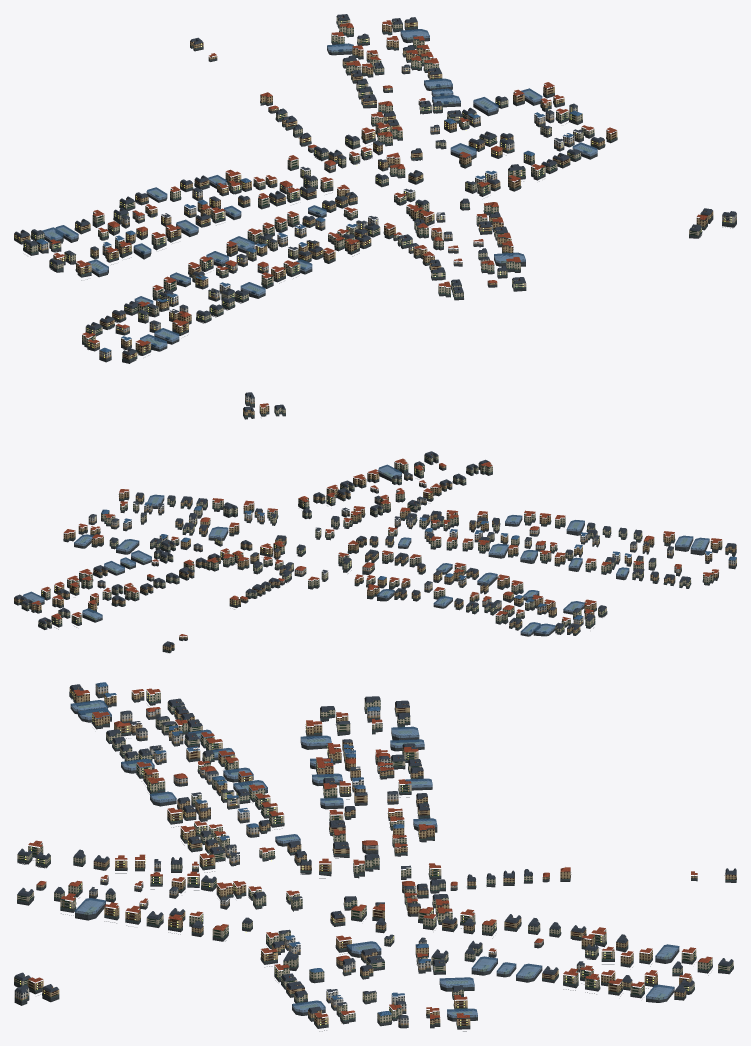
File: osm_buildings_T_E02_N01_Q1.glb
3 views of the same model, one above another, from view 1: azimuth 30°, elevation 25°; view 2: azimuth 150°, elevation 25°; view 3: azimuth 270°, elevation 25° (orthographic). The views are drawn at different scales.
Visible parts, largest first — view 1: OSM_T_E02_N01_Q1_foundation, OSM_T_E02_N01_Q1_wall_cream_stucco, OSM_T_E02_N01_Q1_wall_french_ochre, OSM_T_E02_N01_Q1_roof_terracotta, OSM_T_E02_N01_Q1_roof_mansard_slate, OSM_T_E02_N01_Q1_greenhouse_blend, OSM_T_E02_N01_Q1_roof_mansard_deck, OSM_T_E02_N01_Q1_wall_warm_white, OSM_T_E02_N01_Q1_roof_mint_metal, OSM_T_E02_N01_Q1_balcony_railing, OSM_T_E02_N01_Q1_wall_pastel_sand, OSM_T_E02_N01_Q1_window_emissive_warm (+2 smaller); view 2: OSM_T_E02_N01_Q1_foundation, OSM_T_E02_N01_Q1_wall_cream_stucco, OSM_T_E02_N01_Q1_wall_french_ochre, OSM_T_E02_N01_Q1_roof_terracotta, OSM_T_E02_N01_Q1_greenhouse_blend, OSM_T_E02_N01_Q1_roof_mansard_slate, OSM_T_E02_N01_Q1_roof_mansard_deck, OSM_T_E02_N01_Q1_roof_mint_metal, OSM_T_E02_N01_Q1_wall_warm_white, OSM_T_E02_N01_Q1_trim_cornice, OSM_T_E02_N01_Q1_wall_pastel_sand, OSM_T_E02_N01_Q1_roof_alpine_blue (+2 smaller); view 3: OSM_T_E02_N01_Q1_foundation, OSM_T_E02_N01_Q1_wall_cream_stucco, OSM_T_E02_N01_Q1_wall_french_ochre, OSM_T_E02_N01_Q1_roof_terracotta, OSM_T_E02_N01_Q1_roof_mansard_slate, OSM_T_E02_N01_Q1_greenhouse_blend, OSM_T_E02_N01_Q1_roof_mansard_deck, OSM_T_E02_N01_Q1_wall_warm_white, OSM_T_E02_N01_Q1_trim_cornice, OSM_T_E02_N01_Q1_roof_mint_metal, OSM_T_E02_N01_Q1_roof_alpine_blue, OSM_T_E02_N01_Q1_wall_pastel_sand (+2 smaller).
Boxes of the visible parts, left/top/right/bottom form: OSM_T_E02_N01_Q1_foundation: left=14, top=21, right=736, bottom=363; OSM_T_E02_N01_Q1_wall_cream_stucco: left=23, top=17, right=701, bottom=344; OSM_T_E02_N01_Q1_wall_french_ochre: left=14, top=22, right=713, bottom=359; OSM_T_E02_N01_Q1_roof_terracotta: left=50, top=16, right=707, bottom=346; OSM_T_E02_N01_Q1_roof_mansard_slate: left=14, top=14, right=736, bottom=355; OSM_T_E02_N01_Q1_greenhouse_blend: left=42, top=29, right=597, bottom=349; OSM_T_E02_N01_Q1_roof_mansard_deck: left=16, top=14, right=734, bottom=352; OSM_T_E02_N01_Q1_wall_warm_white: left=99, top=65, right=736, bottom=358; OSM_T_E02_N01_Q1_roof_mint_metal: left=14, top=22, right=736, bottom=361; OSM_T_E02_N01_Q1_balcony_railing: left=14, top=22, right=731, bottom=362; OSM_T_E02_N01_Q1_wall_pastel_sand: left=35, top=87, right=554, bottom=332; OSM_T_E02_N01_Q1_window_emissive_warm: left=15, top=21, right=731, bottom=358; OSM_T_E02_N01_Q1_foundation: left=14, top=400, right=736, bottom=652; OSM_T_E02_N01_Q1_wall_cream_stucco: left=21, top=407, right=713, bottom=632; OSM_T_E02_N01_Q1_wall_french_ochre: left=14, top=405, right=736, bottom=650; OSM_T_E02_N01_Q1_roof_terracotta: left=31, top=403, right=721, bottom=636; OSM_T_E02_N01_Q1_greenhouse_blend: left=23, top=464, right=709, bottom=634; OSM_T_E02_N01_Q1_roof_mansard_slate: left=14, top=393, right=736, bottom=647; OSM_T_E02_N01_Q1_roof_mansard_deck: left=16, top=392, right=734, bottom=644; OSM_T_E02_N01_Q1_roof_mint_metal: left=14, top=402, right=733, bottom=651; OSM_T_E02_N01_Q1_wall_warm_white: left=88, top=394, right=736, bottom=608; OSM_T_E02_N01_Q1_trim_cornice: left=17, top=396, right=736, bottom=636; OSM_T_E02_N01_Q1_wall_pastel_sand: left=111, top=498, right=681, bottom=624; OSM_T_E02_N01_Q1_roof_alpine_blue: left=101, top=502, right=736, bottom=619; OSM_T_E02_N01_Q1_foundation: left=14, top=691, right=736, bottom=1029; OSM_T_E02_N01_Q1_wall_cream_stucco: left=14, top=690, right=733, bottom=1023; OSM_T_E02_N01_Q1_wall_french_ochre: left=27, top=687, right=736, bottom=1025; OSM_T_E02_N01_Q1_roof_terracotta: left=25, top=688, right=712, bottom=1019; OSM_T_E02_N01_Q1_roof_mansard_slate: left=14, top=684, right=736, bottom=1018; OSM_T_E02_N01_Q1_greenhouse_blend: left=70, top=700, right=679, bottom=1017; OSM_T_E02_N01_Q1_roof_mansard_deck: left=16, top=684, right=735, bottom=1016; OSM_T_E02_N01_Q1_wall_warm_white: left=14, top=684, right=584, bottom=1025; OSM_T_E02_N01_Q1_trim_cornice: left=16, top=686, right=735, bottom=1031; OSM_T_E02_N01_Q1_roof_mint_metal: left=14, top=693, right=735, bottom=1026; OSM_T_E02_N01_Q1_roof_alpine_blue: left=96, top=682, right=430, bottom=1015; OSM_T_E02_N01_Q1_wall_pastel_sand: left=136, top=708, right=543, bottom=1011.
Bounding box in the file's own units: 991 × 53.59 × 897.
16 materials, 16 textured.
